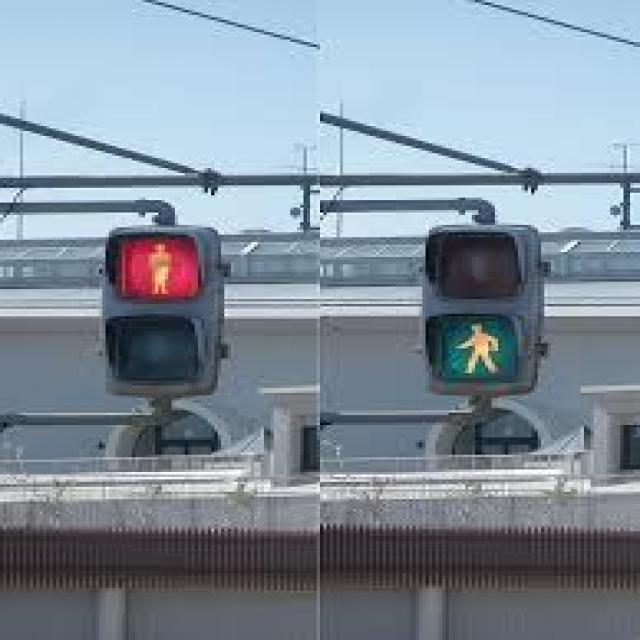trafficlight: (96, 222, 218, 396), (416, 222, 538, 396)
